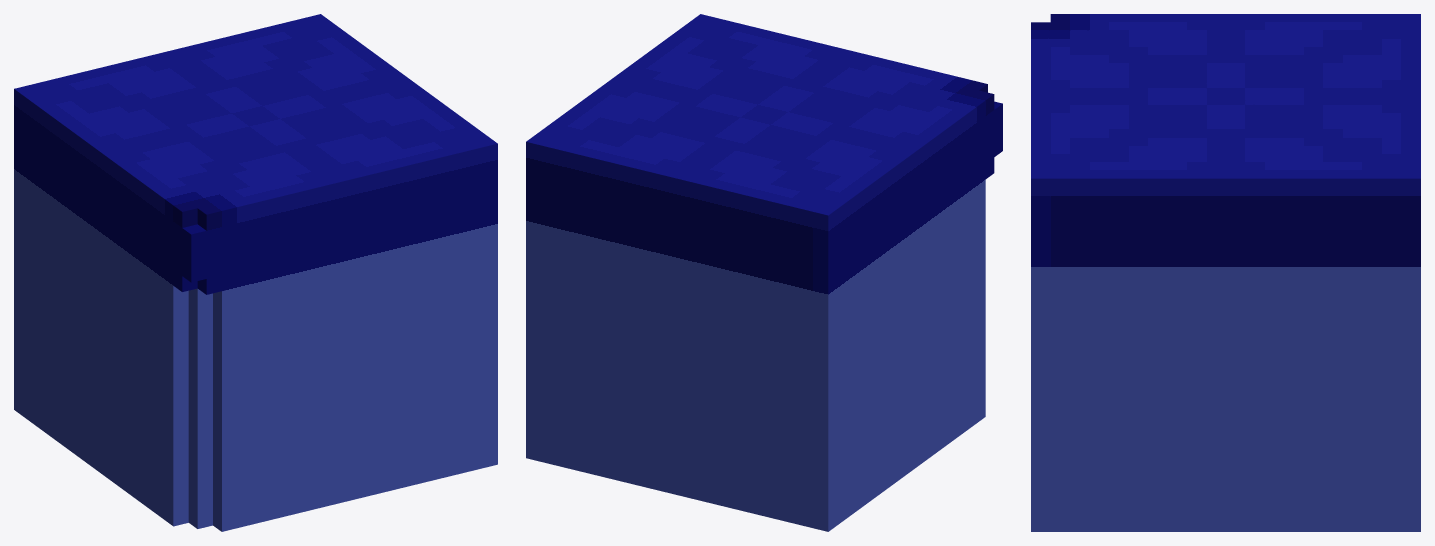
Rendered from full_top_corner2.glb.
The picture shows the model from 3 angles, left to right: view 1: azimuth 30°, elevation 25°; view 2: azimuth 150°, elevation 25°; view 3: azimuth 270°, elevation 25°; orthographic projection. The views are drawn at different scales.
Visible parts, largest first — view 1: full_top_corner; view 2: full_top_corner; view 3: full_top_corner.
Part boxes in pixels (x1,y1,x2,y2): full_top_corner: (14, 14, 497, 531); full_top_corner: (526, 14, 1002, 531); full_top_corner: (1031, 14, 1420, 531).
Bounding box in the file's own units: 2 × 2 × 2.
1 material, 1 textured.
